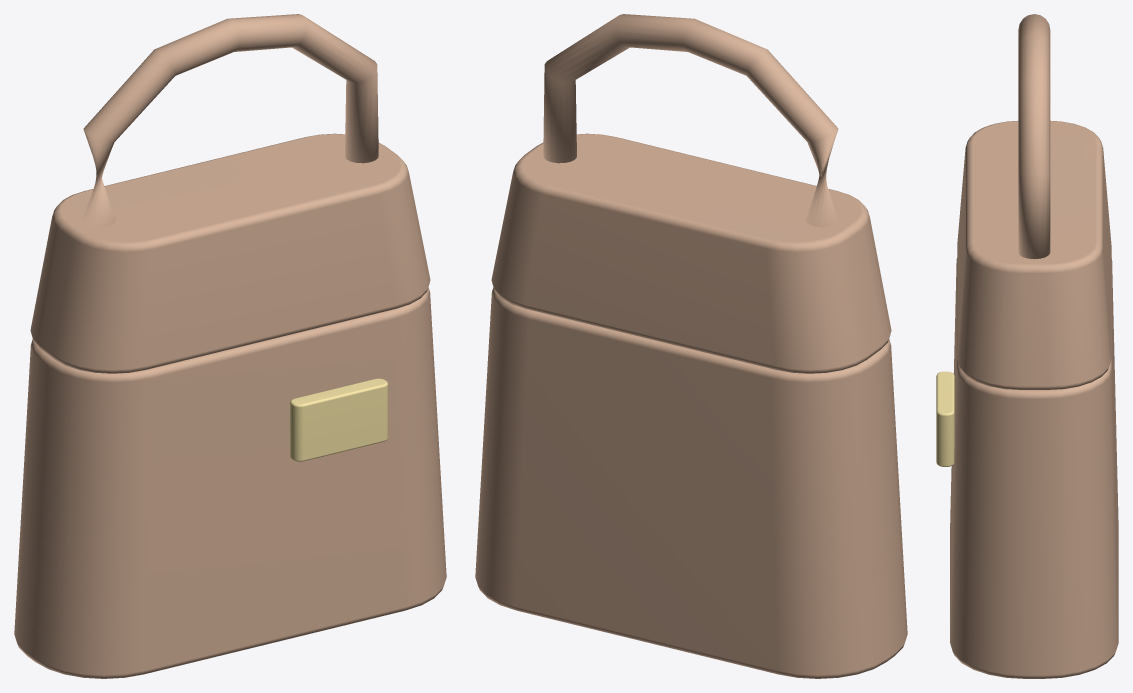
The model's file is art-101.glb.
3 views of the same model, side by side, from view 1: azimuth 30°, elevation 25°; view 2: azimuth 150°, elevation 25°; view 3: azimuth 270°, elevation 25° (orthographic). The views are drawn at different scales.
Visible parts, largest first — view 1: Corps_Principal_Cuir, Rabat_Superieur_Cuir, Anse_Arche_Cuir, Fermoir_Boucle_Laiton; view 2: Corps_Principal_Cuir, Rabat_Superieur_Cuir, Anse_Arche_Cuir; view 3: Corps_Principal_Cuir, Rabat_Superieur_Cuir, Anse_Arche_Cuir, Fermoir_Boucle_Laiton.
Part boxes in pixels (left/top/right/bottom): Corps_Principal_Cuir: left=14, top=287, right=446, bottom=678; Rabat_Superieur_Cuir: left=30, top=133, right=430, bottom=373; Anse_Arche_Cuir: left=82, top=14, right=378, bottom=227; Fermoir_Boucle_Laiton: left=290, top=378, right=388, bottom=461; Corps_Principal_Cuir: left=475, top=287, right=907, bottom=678; Rabat_Superieur_Cuir: left=491, top=133, right=891, bottom=373; Anse_Arche_Cuir: left=543, top=14, right=839, bottom=227; Corps_Principal_Cuir: left=950, top=258, right=1118, bottom=678; Rabat_Superieur_Cuir: left=957, top=120, right=1111, bottom=389; Anse_Arche_Cuir: left=1018, top=14, right=1050, bottom=259; Fermoir_Boucle_Laiton: left=936, top=371, right=954, bottom=466.
Size of the model in its own units: 0.1903 by 0.2681 by 0.0798.
